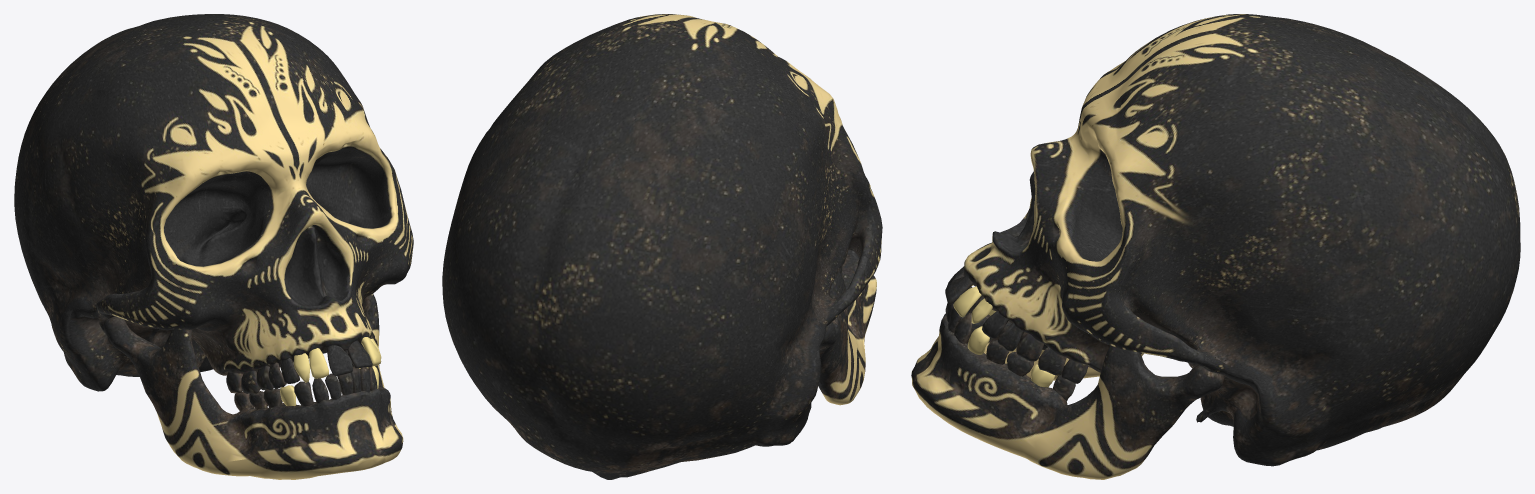
Rendered from skull_salazar_downloadable.glb.
The picture shows the model from 3 angles, left to right: view 1: azimuth 30°, elevation 25°; view 2: azimuth 150°, elevation 25°; view 3: azimuth 270°, elevation 25°; orthographic projection. The views are drawn at different scales.
Visible parts, largest first — view 1: Group5732_001; view 2: Group5732_001; view 3: Group5732_001.
Part boxes in pixels (<box>): Group5732_001: <box>14,14,413,479</box>; Group5732_001: <box>442,14,882,479</box>; Group5732_001: <box>911,14,1520,479</box>.
Bounding box in the file's own units: 1.22 × 1.46 × 2.
Materials: 2 (2 with a texture image).
